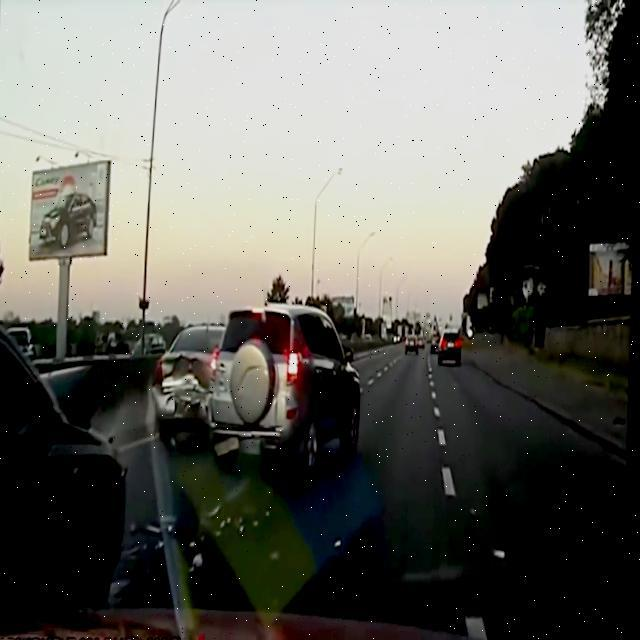multiple_accident: (123, 300, 238, 448)
normal: (208, 296, 387, 489)
